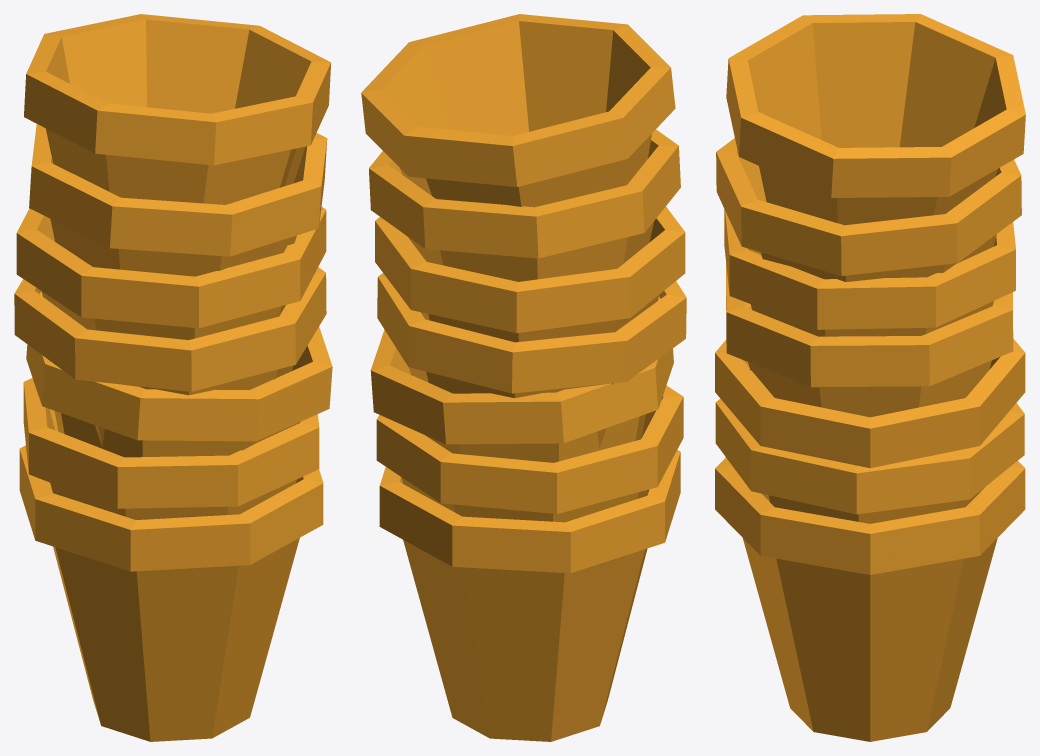
The model's file is SM_Pot_Clay_Stack_B.fbx.
The picture shows the model from 3 angles, left to right: view 1: azimuth 30°, elevation 25°; view 2: azimuth 150°, elevation 25°; view 3: azimuth 270°, elevation 25°; orthographic projection.
Visible parts, largest first — view 1: pot-clay-stack-b; view 2: pot-clay-stack-b; view 3: pot-clay-stack-b.
Part boxes in pixels (x1,y1,x2,y2): pot-clay-stack-b: (14,14,332,741); pot-clay-stack-b: (361,14,686,741); pot-clay-stack-b: (715,14,1025,741).
Size of the model in its own units: 0.217 by 0.4785 by 0.2104.
